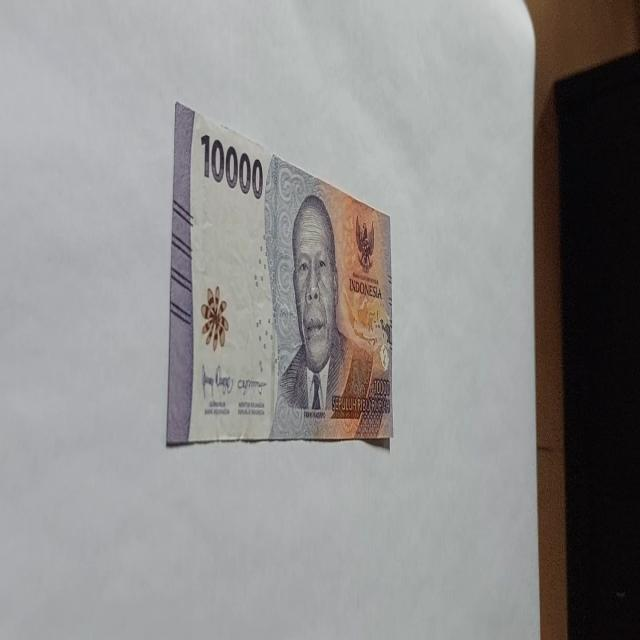sepuluh ribu rupiah: (166, 100, 394, 448), (269, 190, 376, 438), (198, 132, 264, 200)
